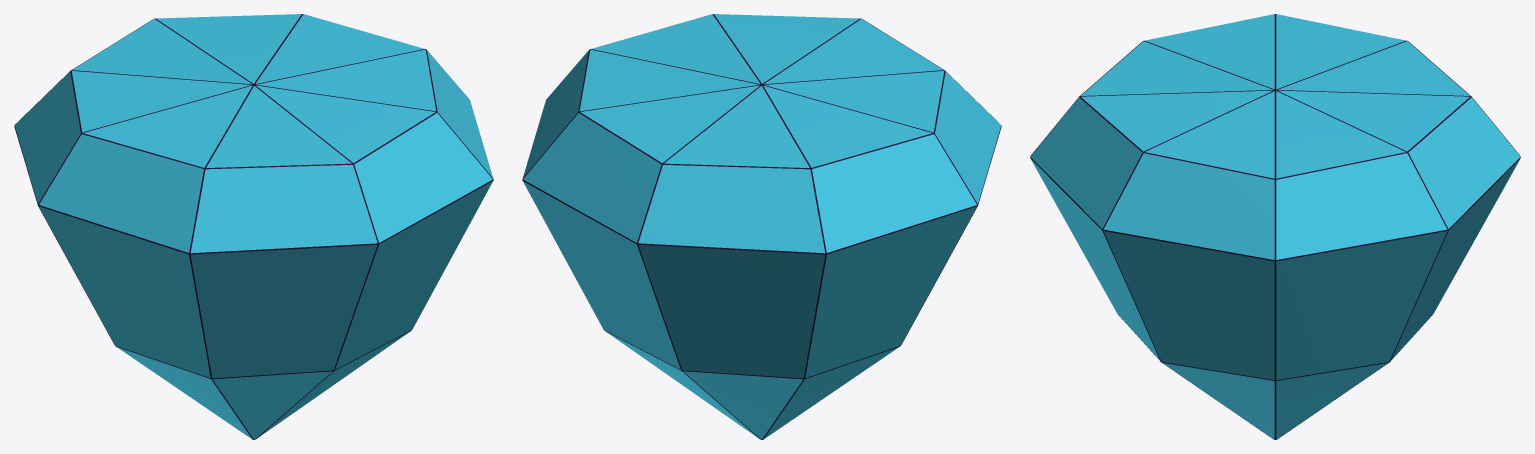
File: emerald_export.fbx
The picture shows the model from 3 angles, left to right: view 1: azimuth 30°, elevation 25°; view 2: azimuth 150°, elevation 25°; view 3: azimuth 270°, elevation 25°; orthographic projection.
Parts seen in each view (by area): view 1: pCube6; view 2: pCube6; view 3: pCube6.
Part boxes in pixels (bbox=[...]): pCube6: bbox=[14, 14, 493, 439]; pCube6: bbox=[522, 14, 1001, 439]; pCube6: bbox=[1030, 14, 1520, 439].
Bounding box in the file's own units: 1.42 × 1.11 × 1.42.
